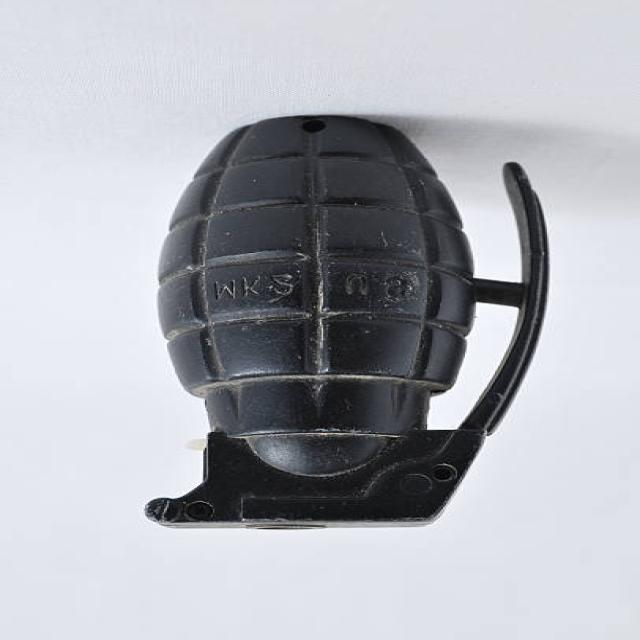grenade: (133, 101, 577, 548)
